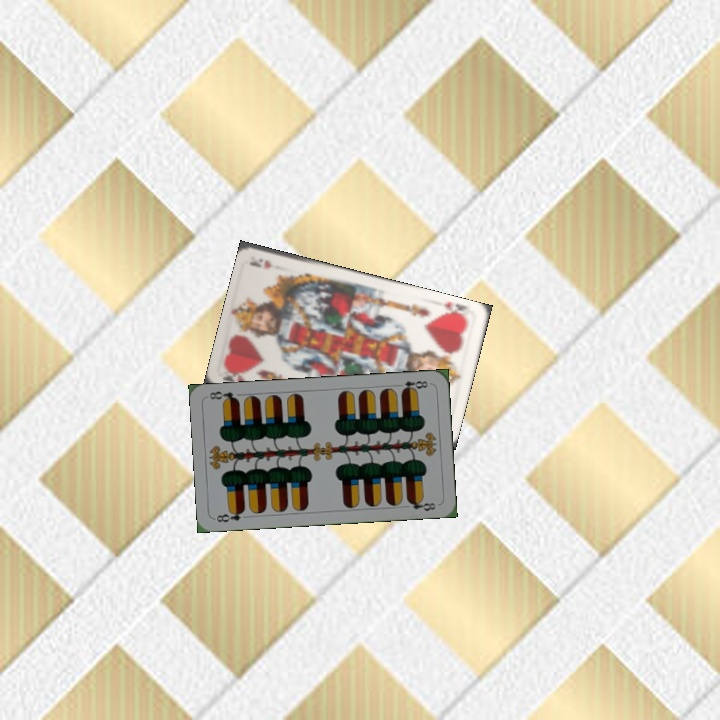E8: (392, 377, 433, 394), (213, 505, 247, 525)
HK: (436, 298, 470, 323), (220, 365, 249, 387)
